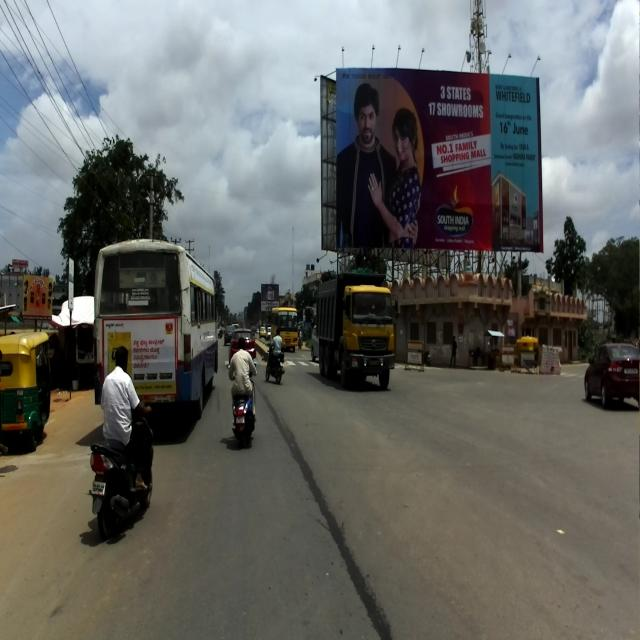autorickshaw: (0, 328, 53, 452)
bus: (91, 238, 218, 420)
scooter: (88, 396, 156, 539), (227, 359, 260, 445)
truck: (315, 267, 392, 395)
